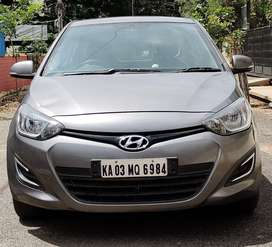KA03MQ6984: (101, 158, 167, 176)
